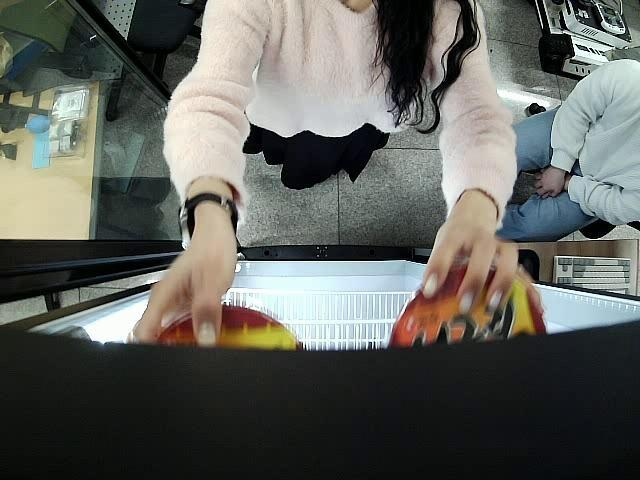05_nuguri_L: (389, 260, 548, 346), (150, 304, 307, 352)
